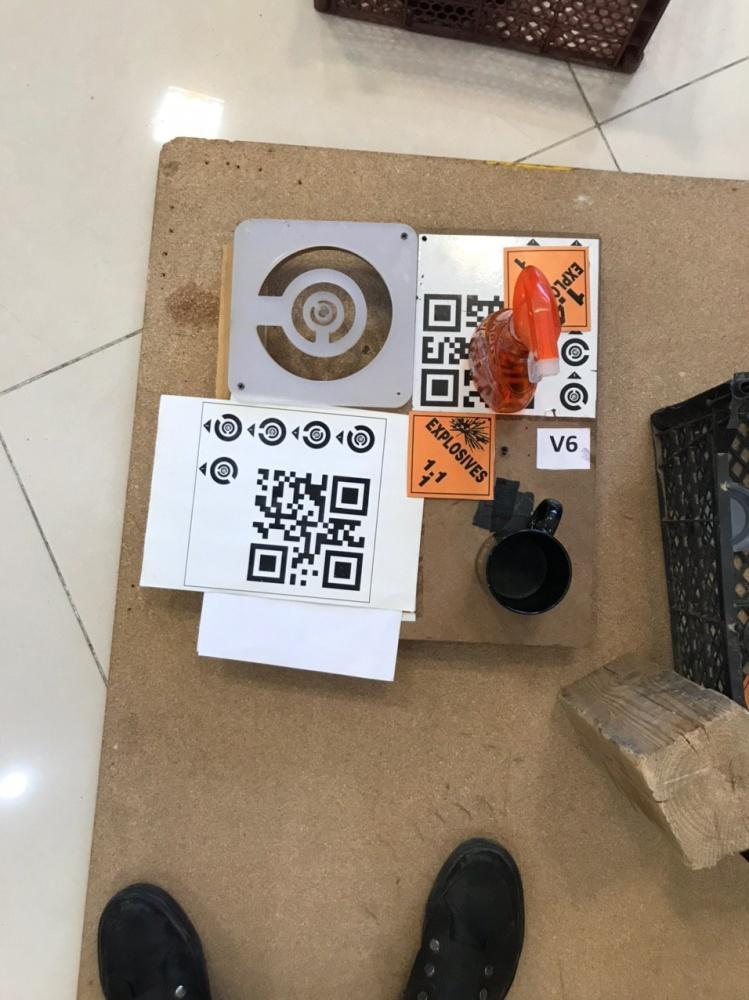explosive: (506, 243, 595, 340), (406, 411, 496, 499)
